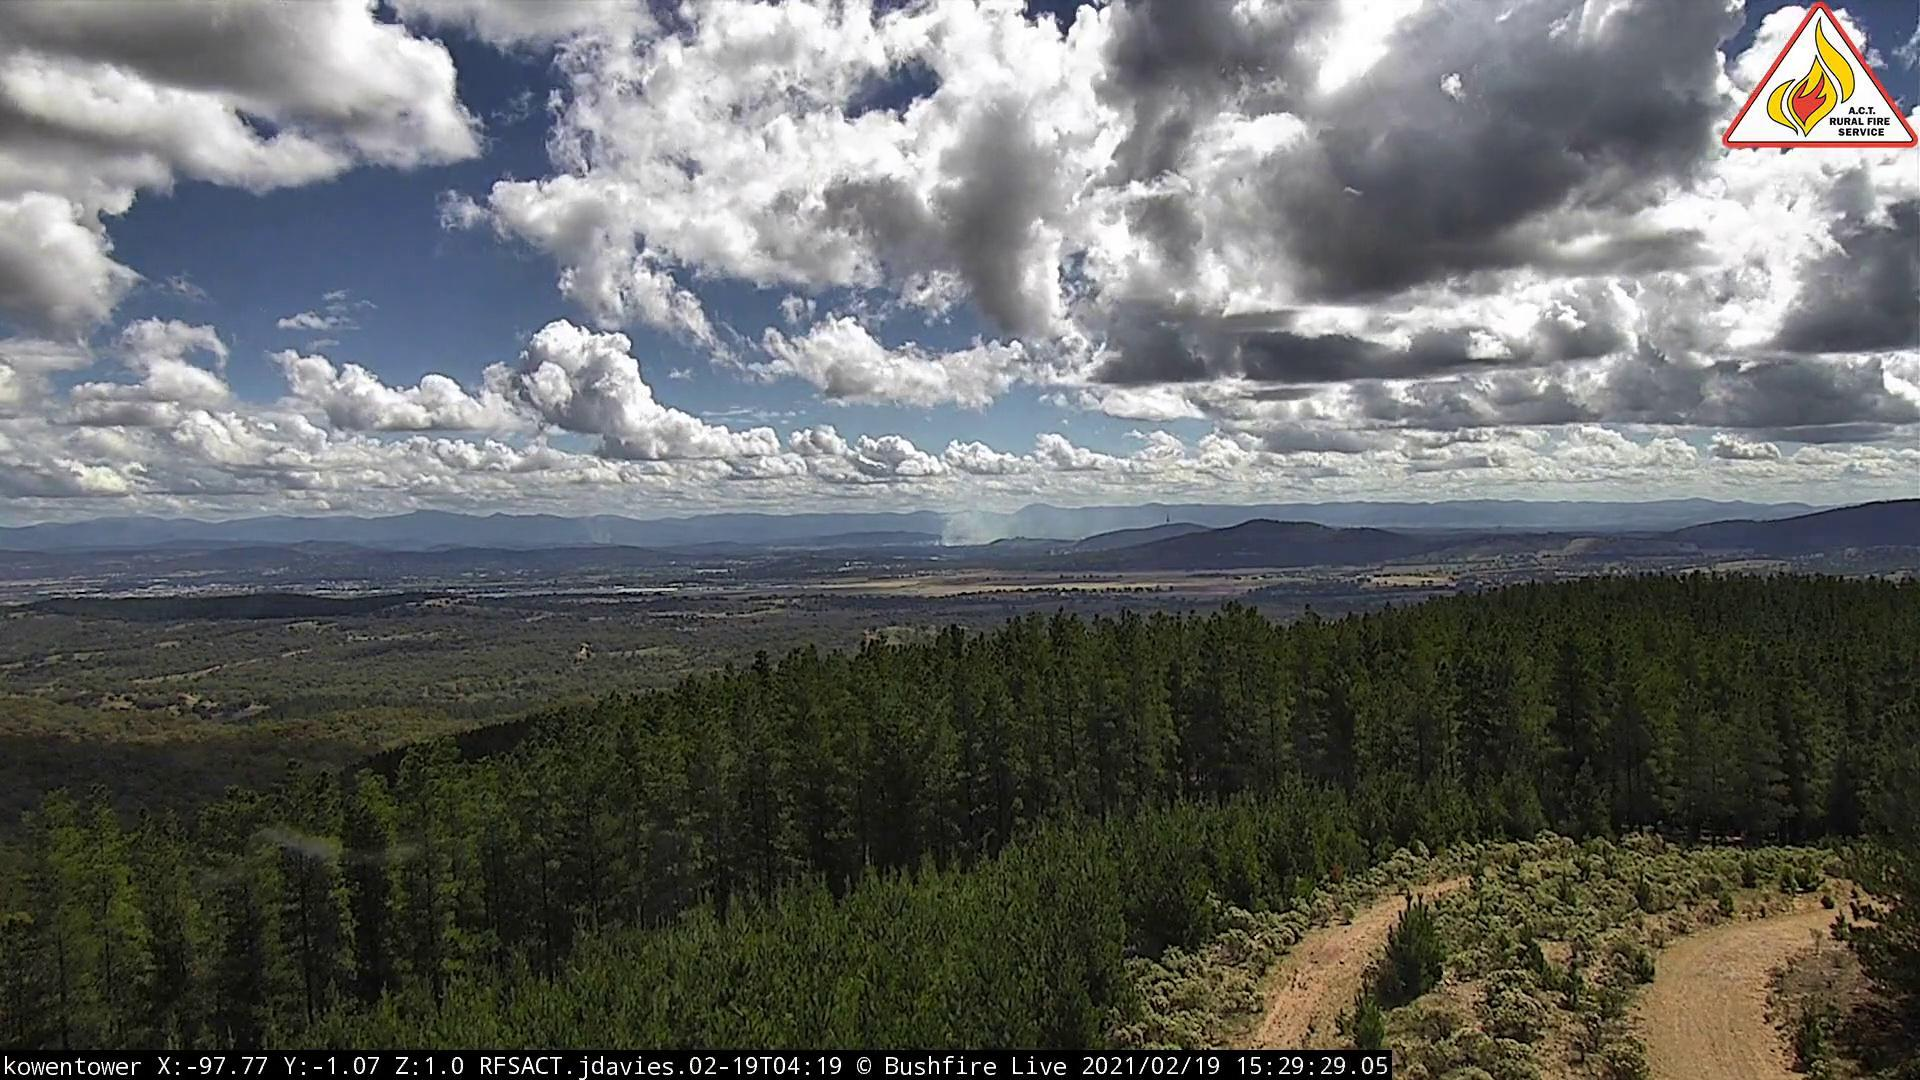Smoke: (936, 501, 1025, 554), (589, 531, 626, 555)
